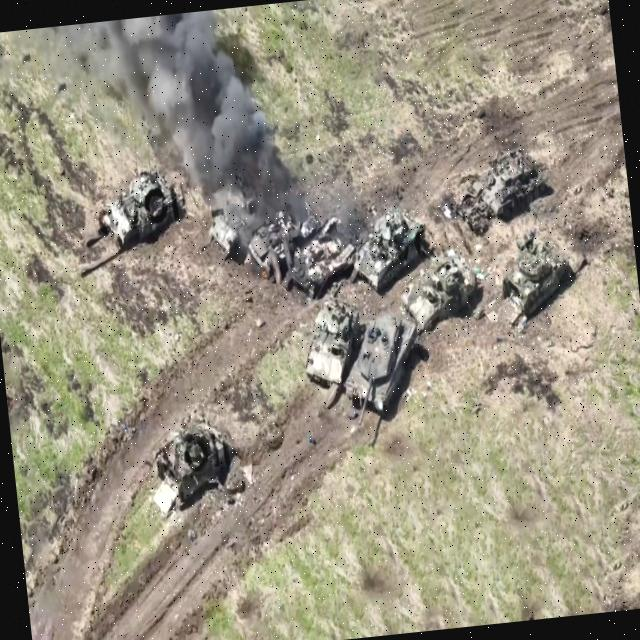AIFV: (344, 205, 434, 299), (397, 246, 488, 334), (489, 237, 577, 325), (99, 170, 191, 250), (297, 295, 367, 388)
Destroyed: (147, 417, 238, 517), (244, 201, 326, 278), (287, 216, 360, 301), (205, 186, 273, 265)
MBT: (336, 307, 431, 429), (469, 137, 555, 222)
